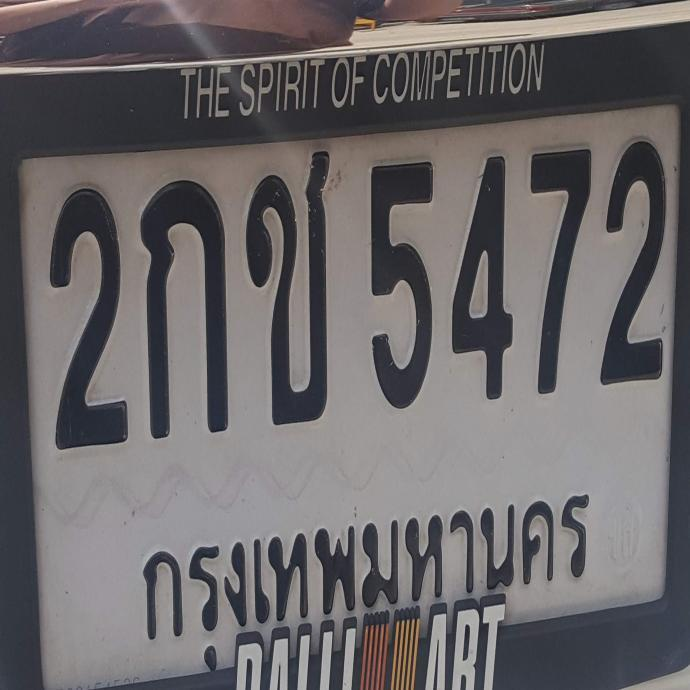2: (39, 177, 130, 447), (593, 134, 676, 383)
4: (440, 148, 522, 403)
5: (365, 154, 440, 410)
7: (519, 141, 597, 395)
A01: (130, 170, 233, 437)
A10: (239, 146, 344, 426)
BKK: (123, 471, 613, 654)
